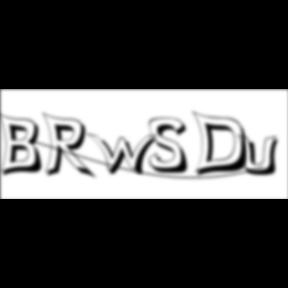B: (0, 111, 48, 179)
D: (192, 110, 254, 180)
R: (43, 112, 100, 182)
S: (149, 117, 195, 176)
u: (237, 132, 285, 178)
w: (87, 132, 165, 178)
